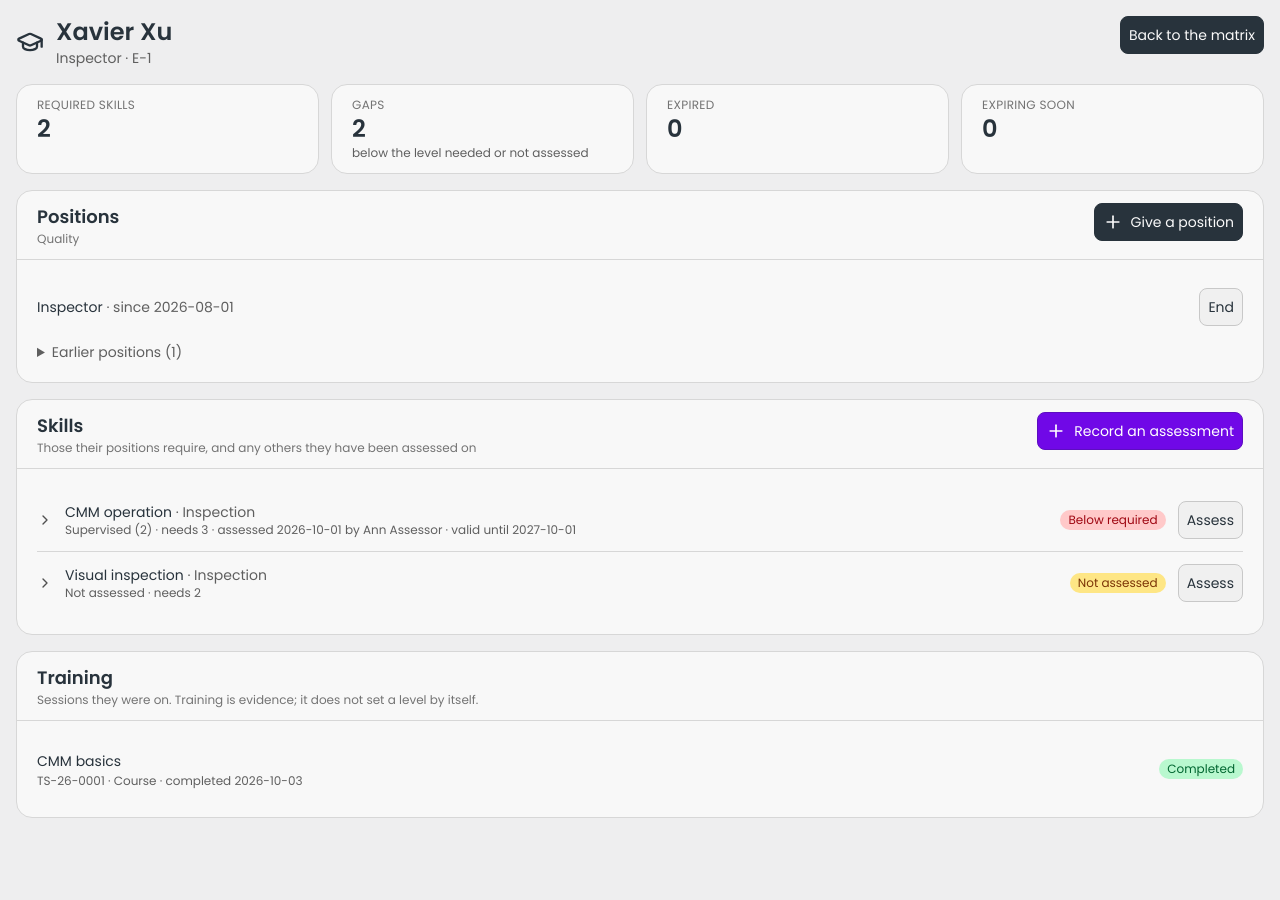
Test: person page › needs a note when the level goes down
Click the button with aria-label "Assess CMM operation" at (1210, 520), box x1=1178 y1=501 x2=1243 y2=539
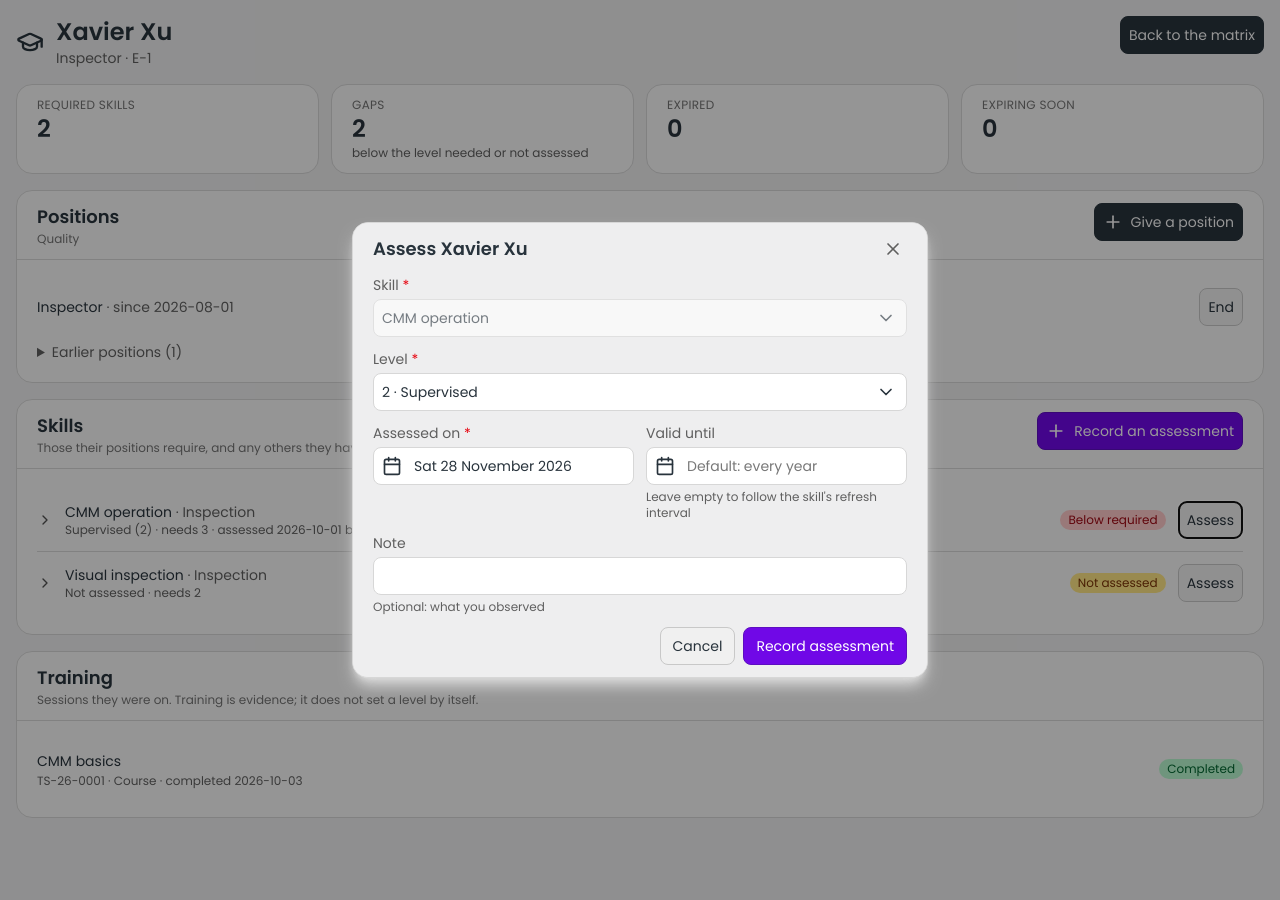
Click the dropdown labelled "Level" at (622, 392), box x1=382 y1=382 x2=862 y2=402
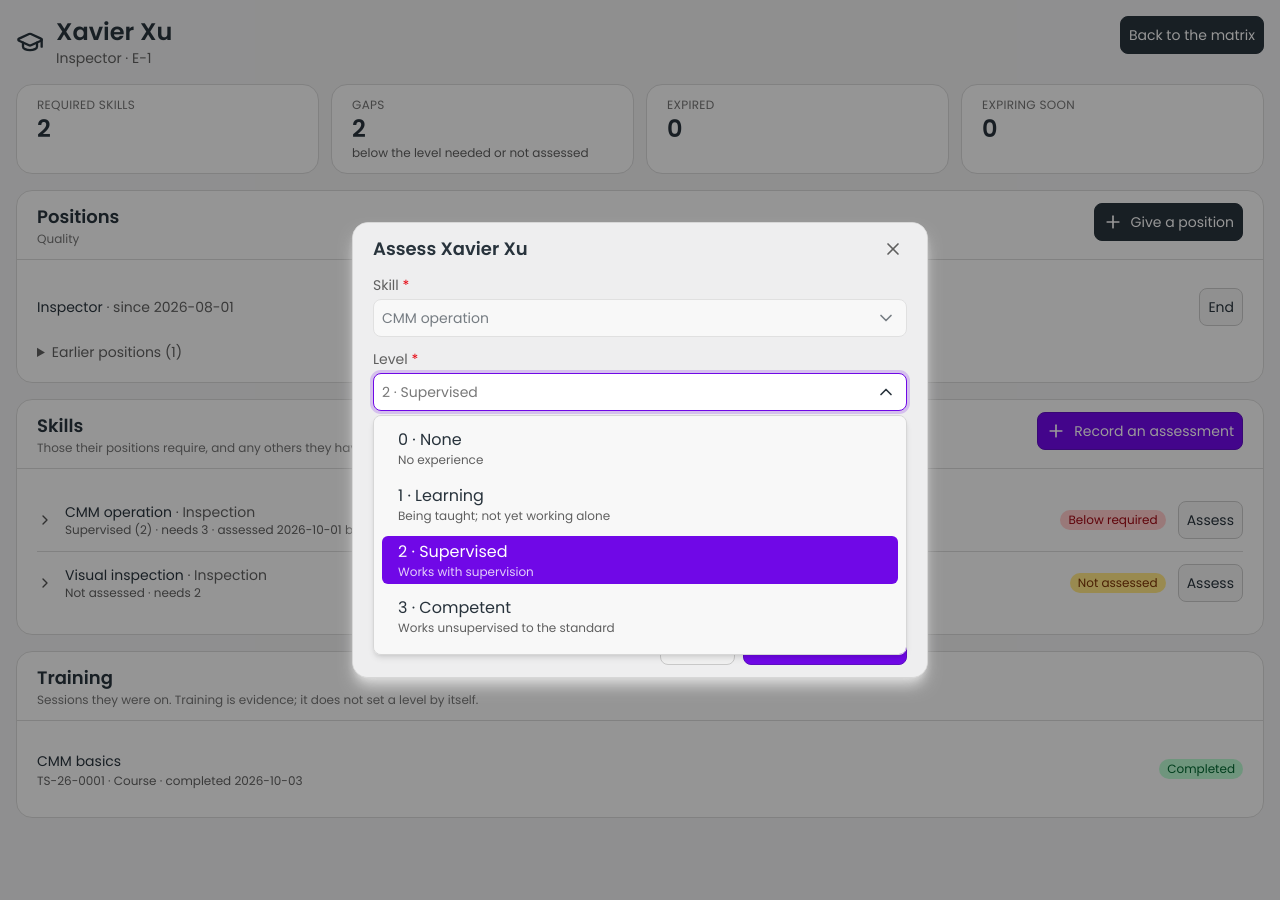
Click the option "1 · Learning Being taught; not yet working alone" at (504, 504), box x1=398 y1=484 x2=610 y2=524
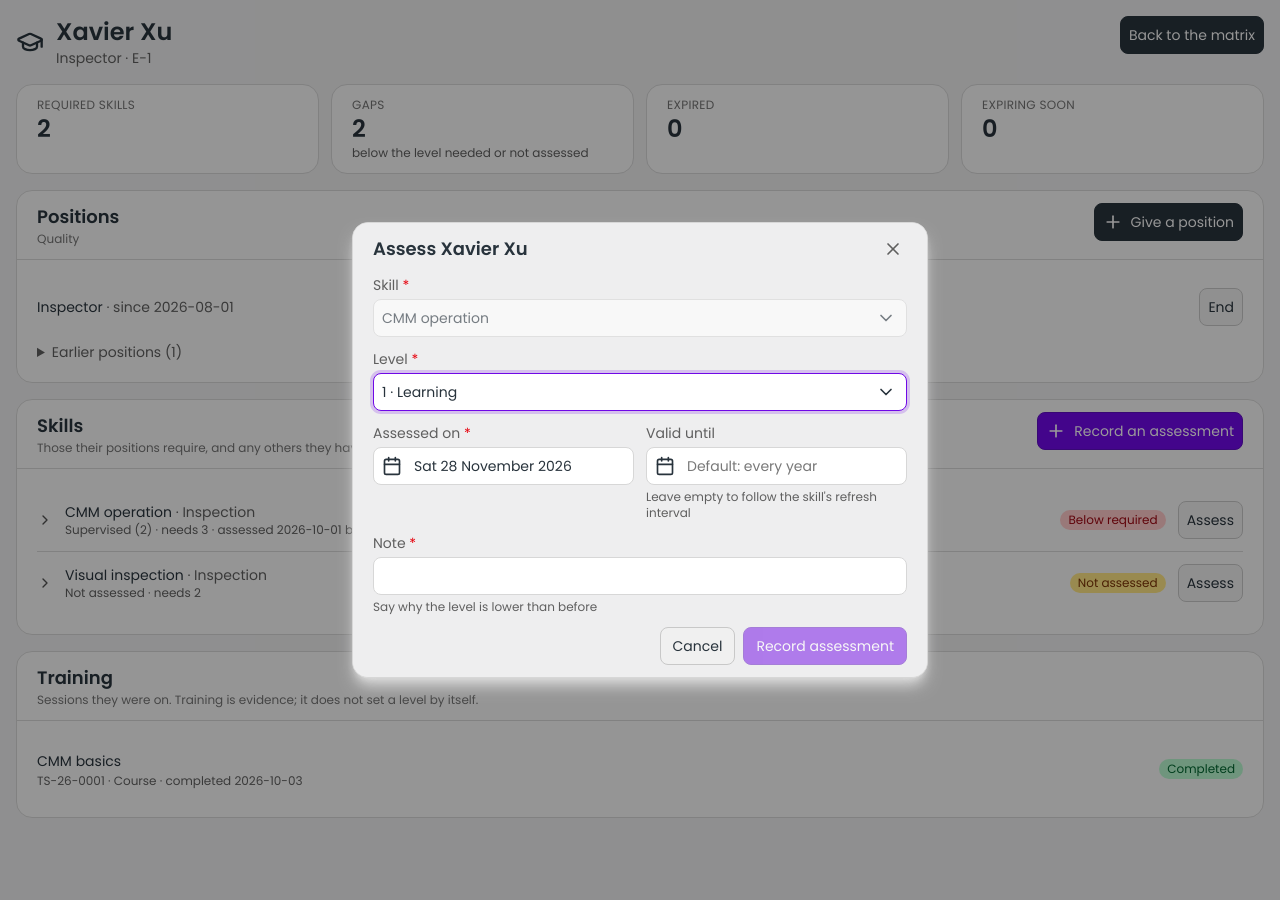
Expected: the button "Record assessment" is disabled, x1=743 y1=627 x2=907 y2=665
Type "Needs a refresher" into the field labelled "Note" at (640, 576), box x1=373 y1=557 x2=907 y2=595
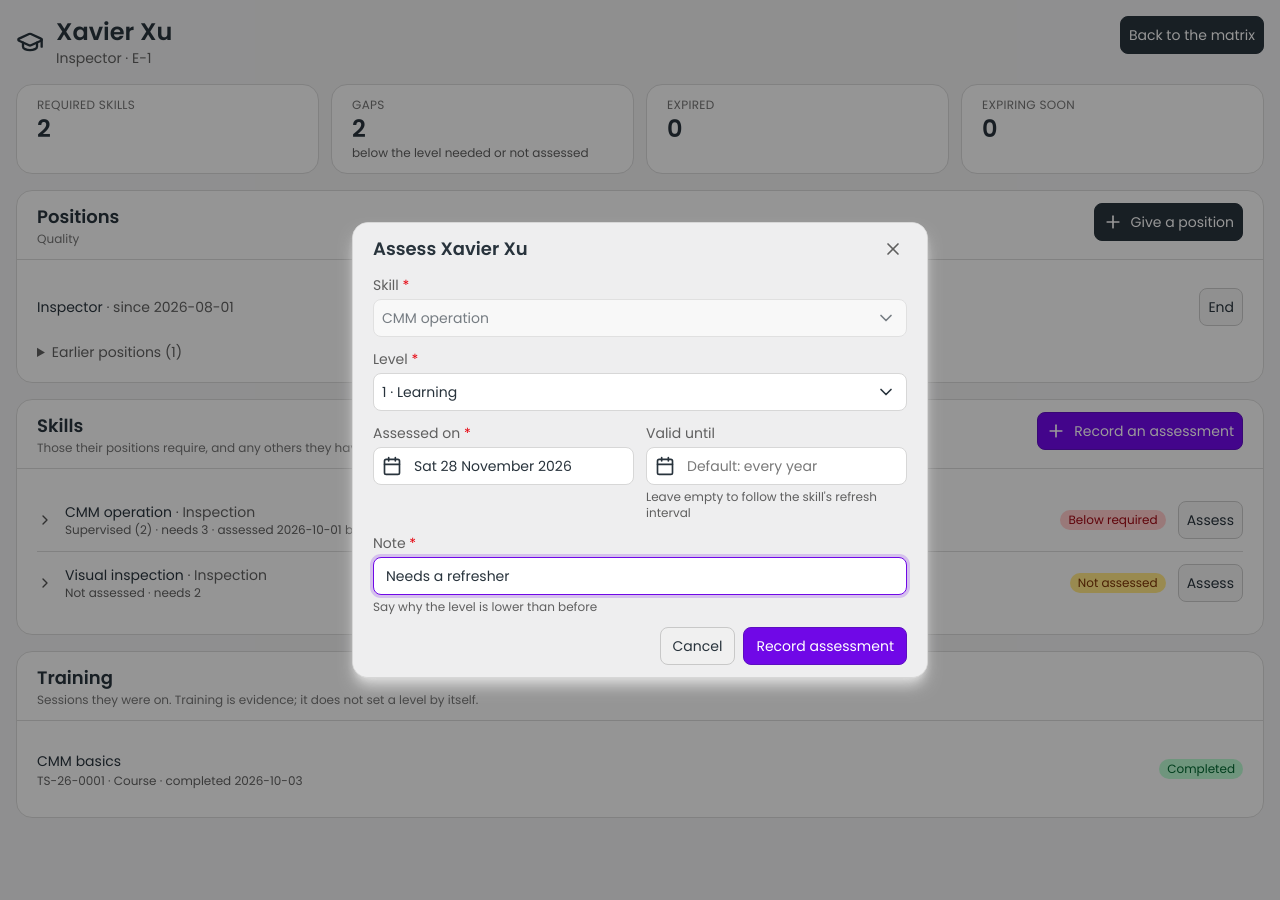
Expected: the button "Record assessment" is enabled, x1=743 y1=627 x2=907 y2=665
